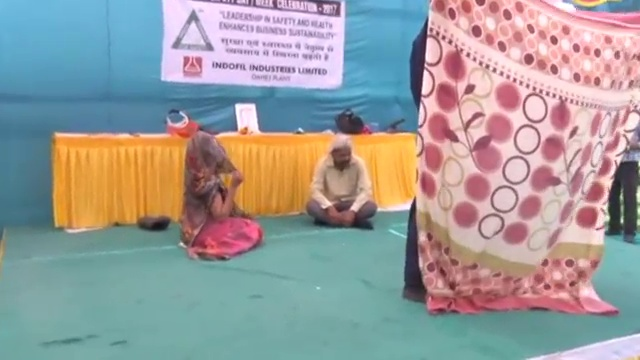helmet_off: (186, 130, 221, 167), (327, 134, 353, 170)
person: (177, 127, 262, 262), (299, 132, 380, 226), (605, 117, 640, 248)
